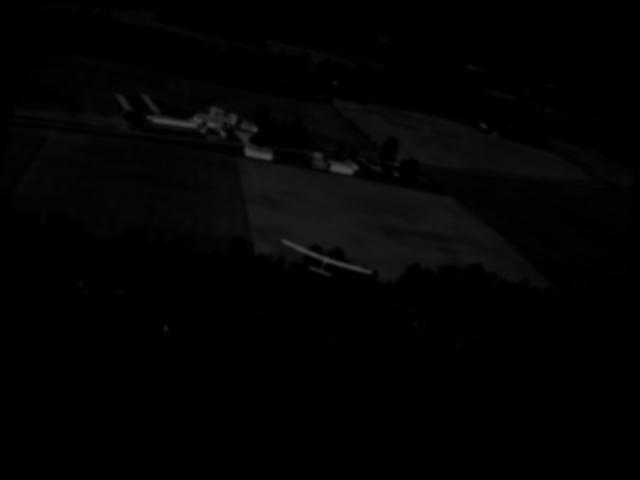hedef: (276, 227, 377, 287)
